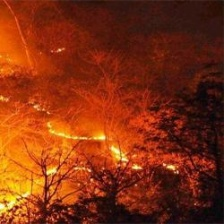fire: (1, 48, 181, 216)
